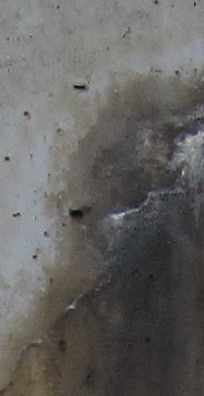Corrosion: (1, 70, 204, 396)
Spalling: (2, 82, 90, 260)
